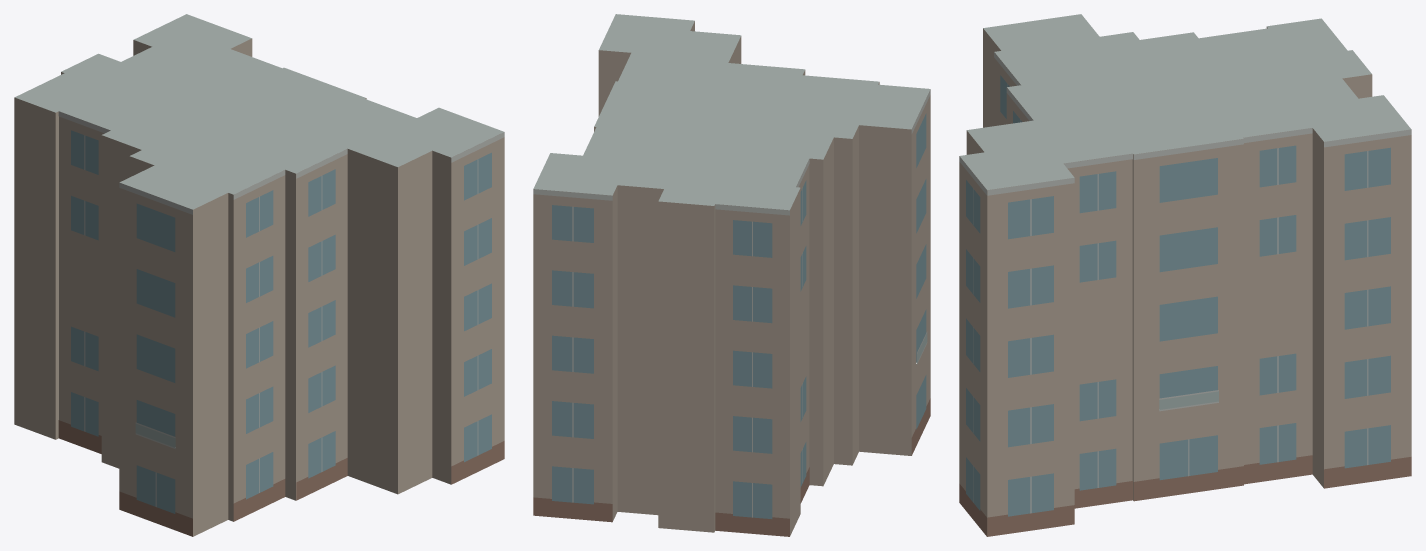
The model's file is survey-upis-32794542.glb.
3 views of the same model, side by side, from view 1: azimuth 30°, elevation 25°; view 2: azimuth 150°, elevation 25°; view 3: azimuth 270°, elevation 25° (orthographic). The views are drawn at different scales.
Visible parts, largest first — view 1: survey-upis-32794542.tmp; view 2: survey-upis-32794542.tmp; view 3: survey-upis-32794542.tmp.
Boxes of the visible parts, box(x1,y1,x2,y2) form: survey-upis-32794542.tmp: box(14, 14, 504, 536); survey-upis-32794542.tmp: box(533, 14, 930, 536); survey-upis-32794542.tmp: box(959, 14, 1411, 536).
Size of the model in its own units: 16.52 by 15.15 by 17.91.
